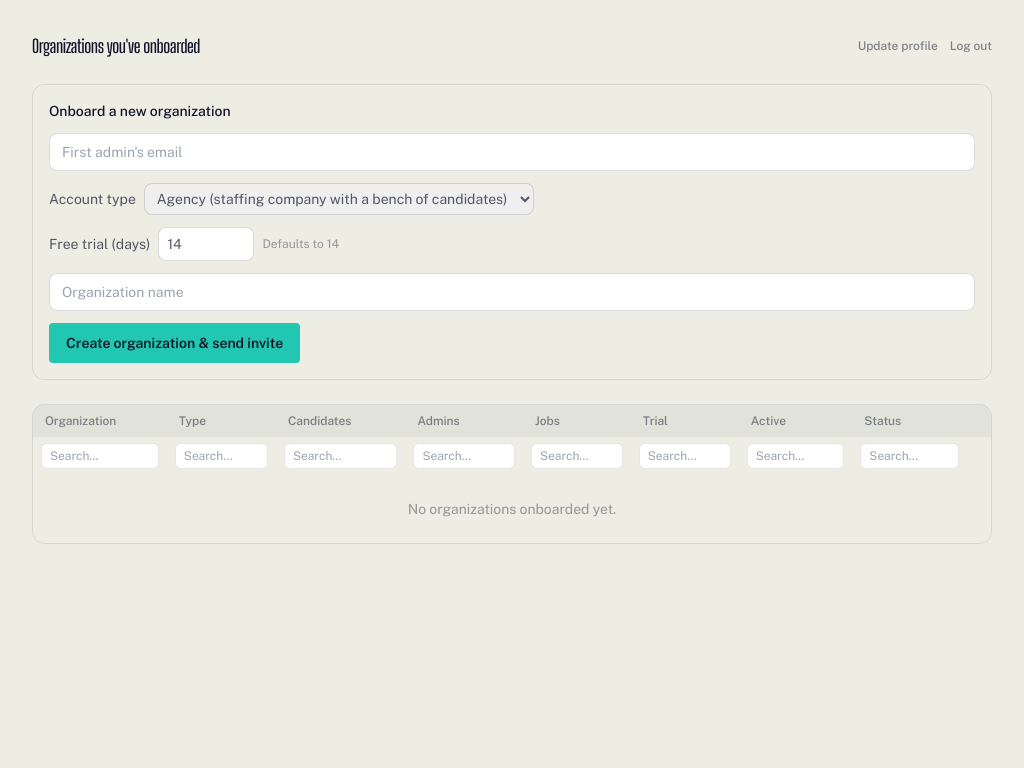
it: StaffDashboard › sends trial_days: null when the trial-days field is cleared (no expiry)
Expected: the text "No organizations onboarded yet." is shown, [33,475,991,543]
Type "Gamma LLC" into the field with placeholder "Organization name" at [512, 292], box [49,273,975,311]
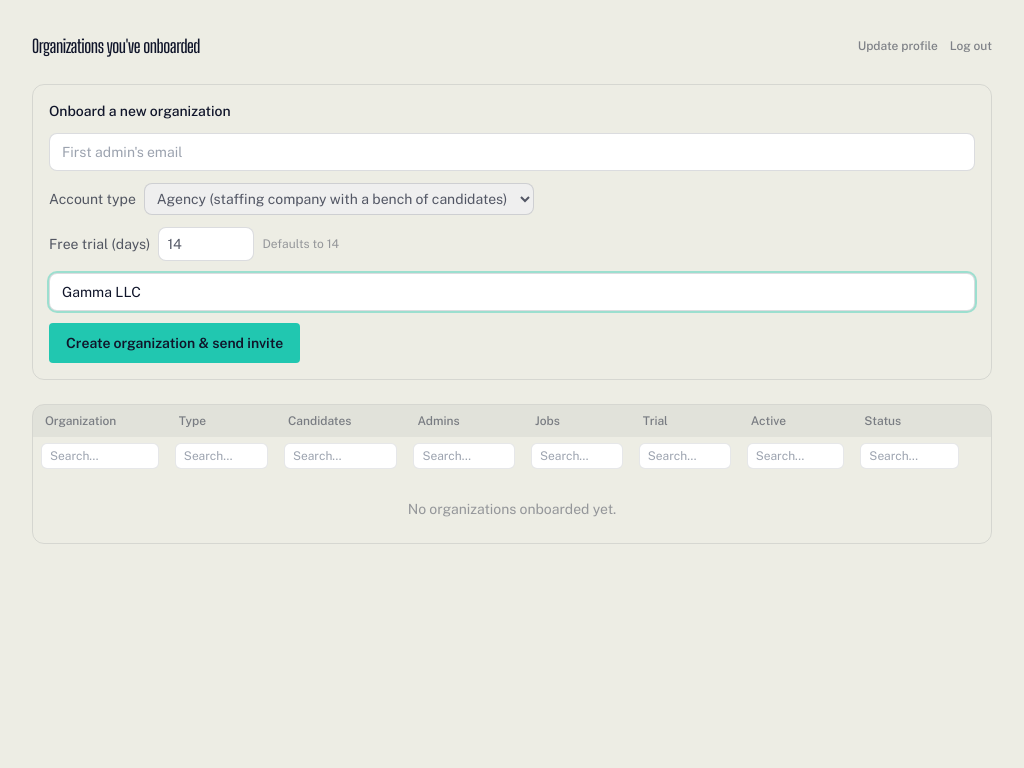
Type "admin@gamma.com" into the field with placeholder "First admin's email" at [512, 152], box [49,133,975,171]
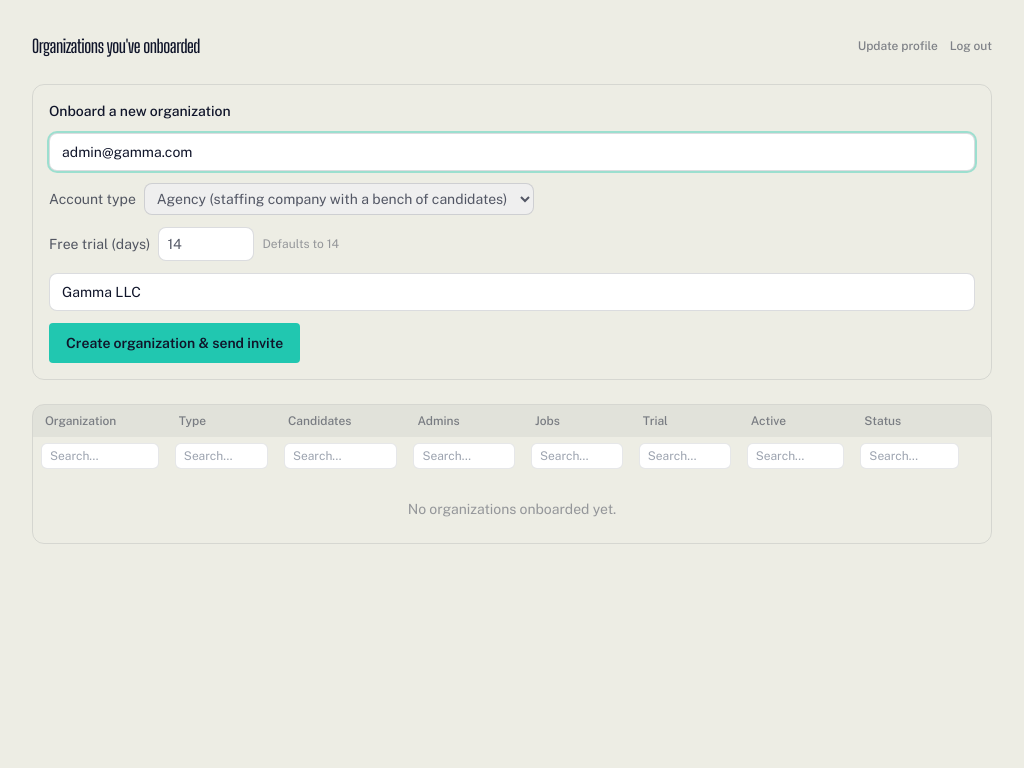
Clear the number field with placeholder "e.g. 14" at [206, 244], box [158,227,254,261]
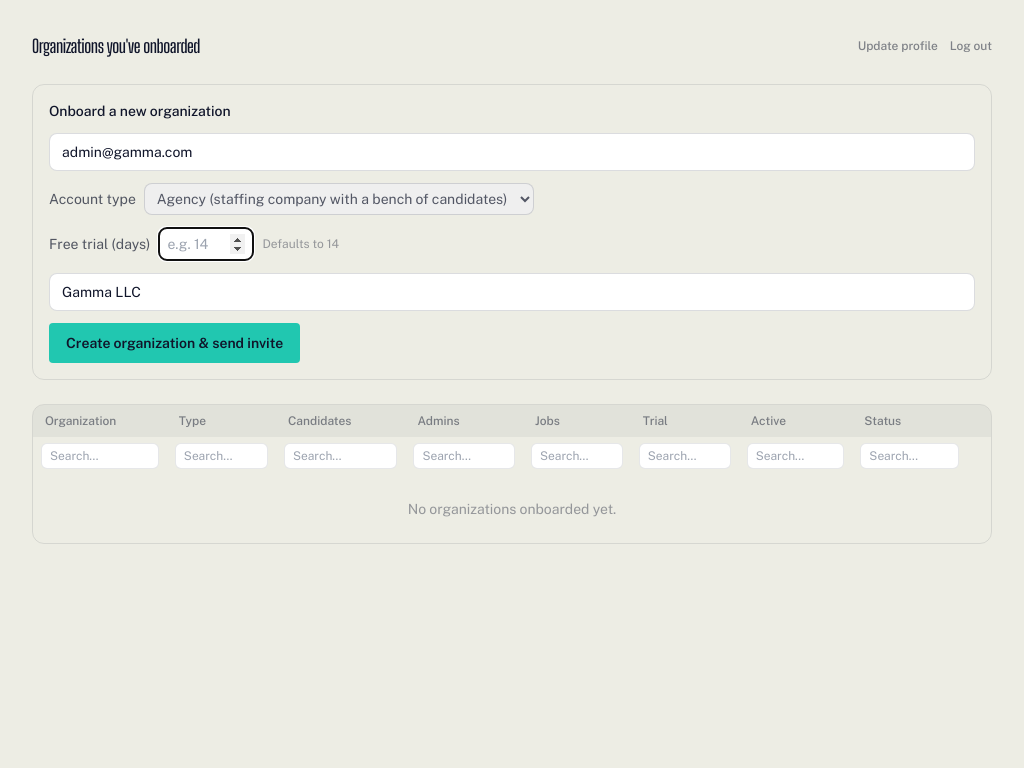
Click the button "Create organization & send invite" at [175, 343], box [49,323,300,363]
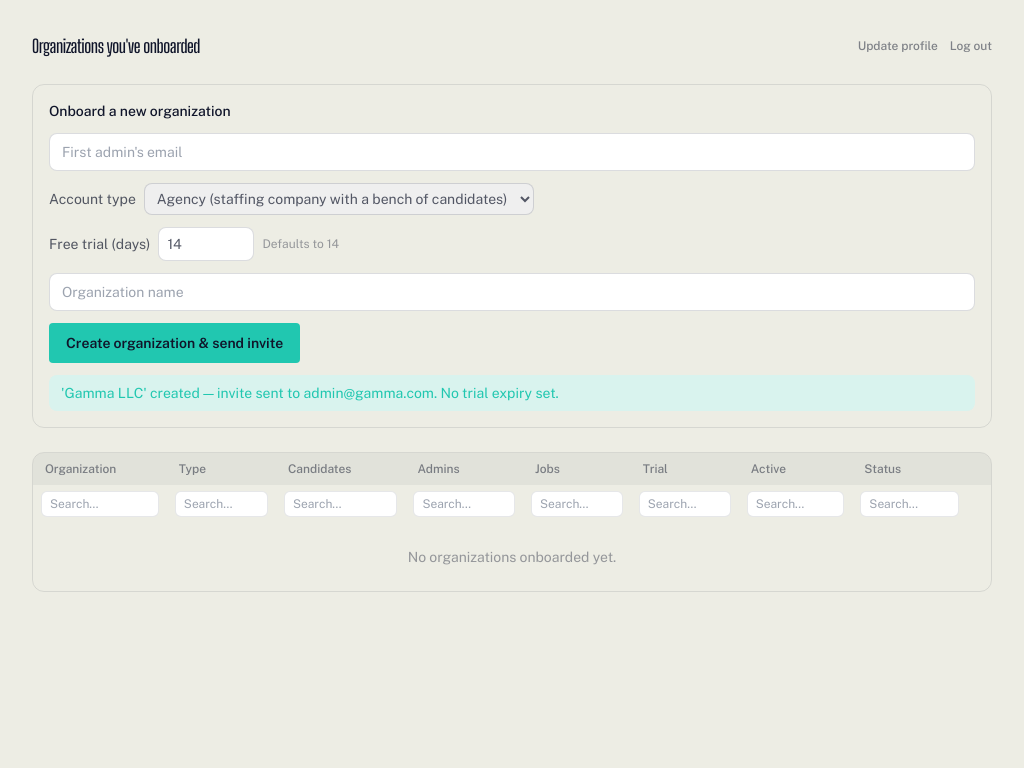
Expected: the text "No trial expiry set" is shown, [61,385,559,401]
